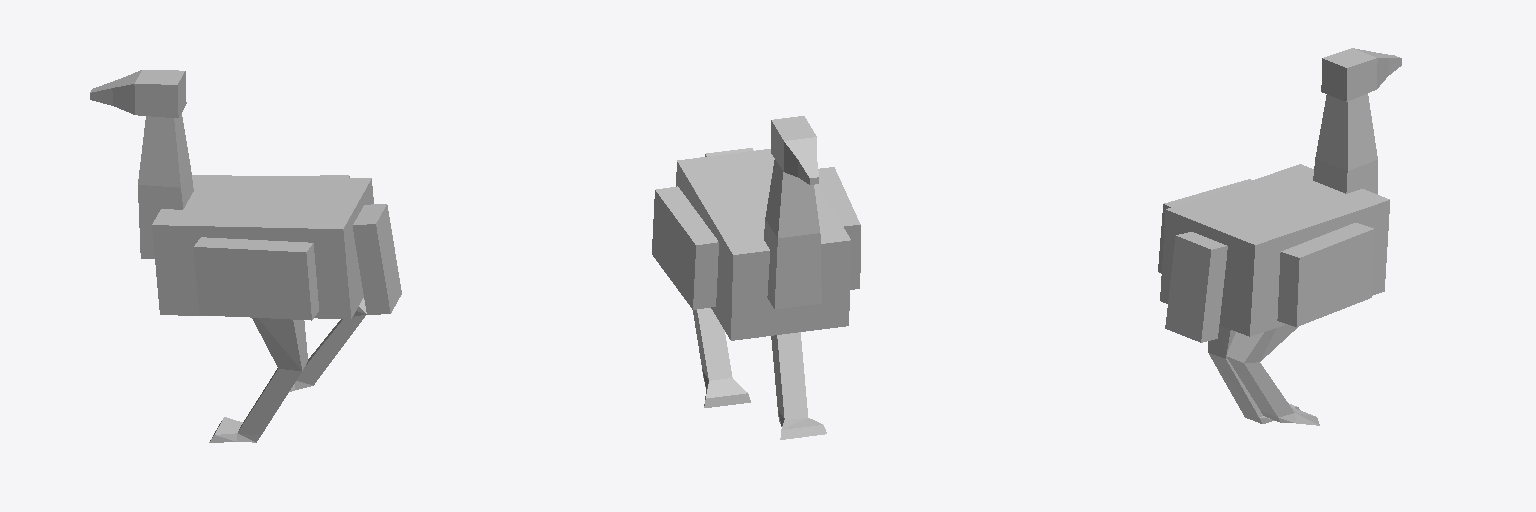
The model's file is Ostrich_000087.obj.
The picture shows the model from 3 angles: view 1: azimuth 30°, elevation 25°; view 2: azimuth 150°, elevation 25°; view 3: azimuth 270°, elevation 25°; orthographic projection.
Visible parts, largest first — view 1: Cube_Cube.001; view 2: Cube_Cube.001; view 3: Cube_Cube.001.
Boxes of the visible parts, x1=… form: Cube_Cube.001: x1=90, y1=70, x2=401, y2=442; Cube_Cube.001: x1=652, y1=116, x2=860, y2=439; Cube_Cube.001: x1=1158, y1=48, x2=1401, y2=425.
Size of the model in its own units: 1.02 by 1.52 by 0.9897.